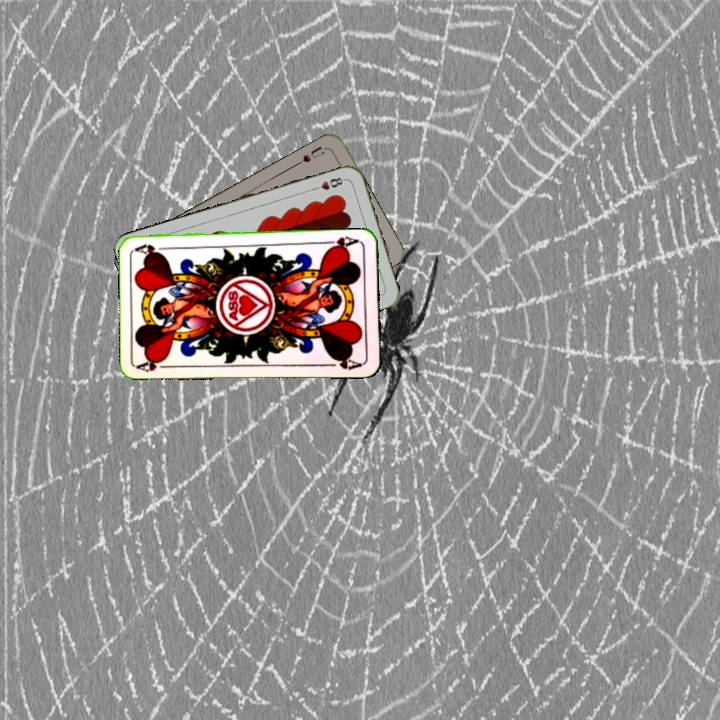H8: (308, 173, 348, 193)
HA: (322, 232, 363, 252), (135, 355, 175, 375)
SU: (292, 142, 327, 168)
